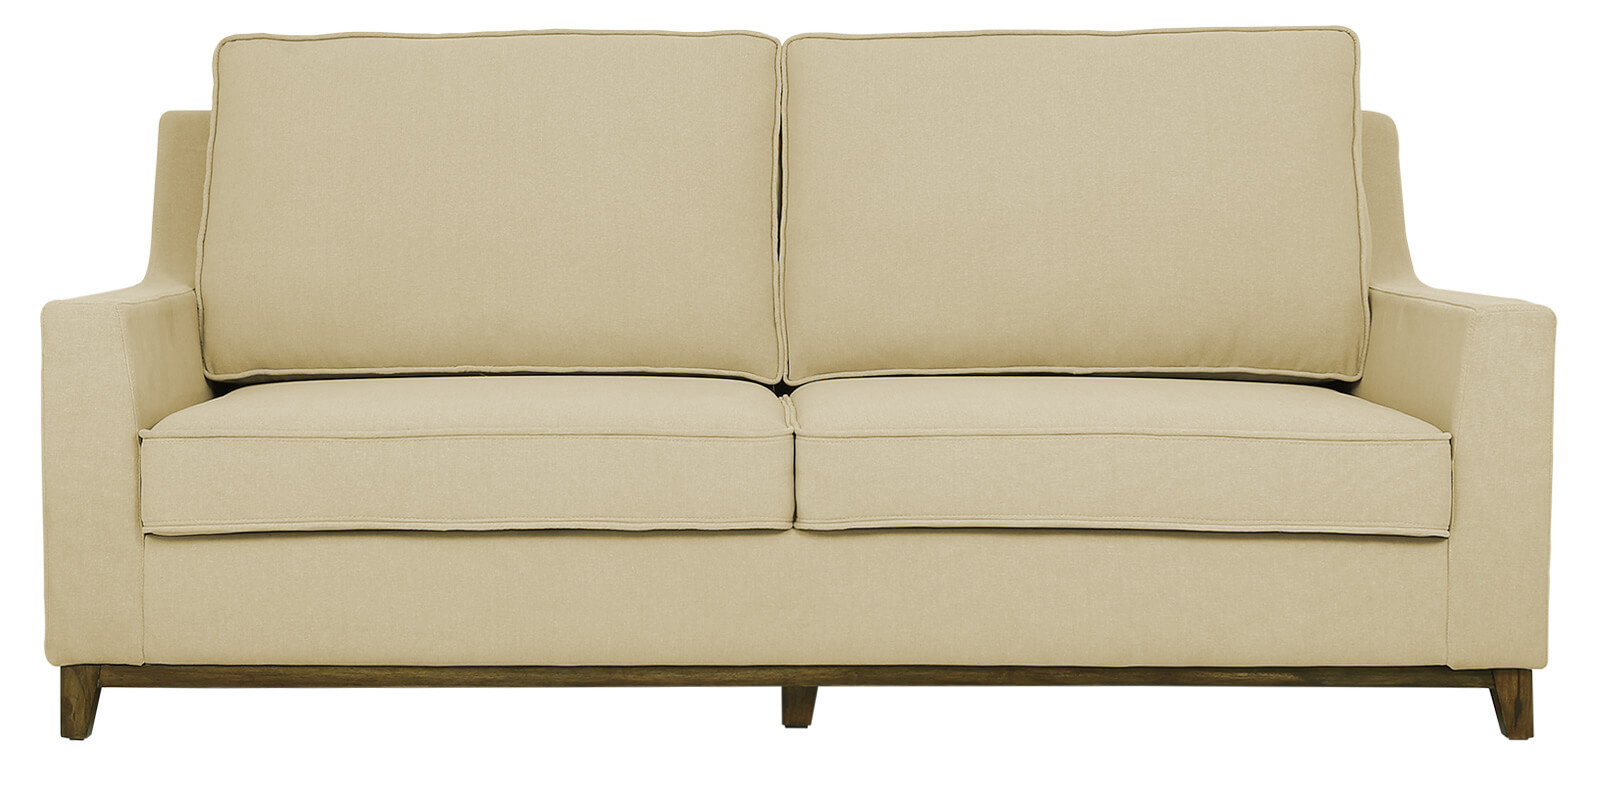Diego Three Seater Sofa in Beige Colour by CasaCraft: (7, 21, 1563, 752)
